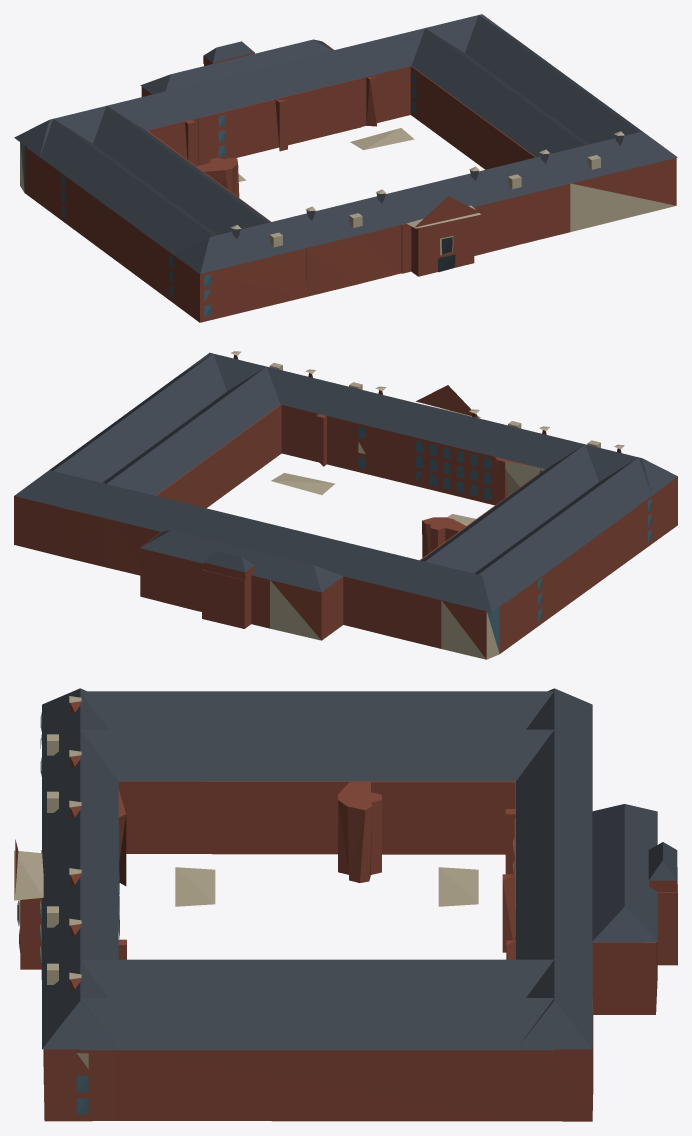
Rendered from hart-museum.lod2.glb.
The picture shows the model from 3 angles, top to bottom: view 1: azimuth 30°, elevation 25°; view 2: azimuth 150°, elevation 25°; view 3: azimuth 270°, elevation 25°; orthographic projection. The views are drawn at different scales.
Parts seen in each view (by area): view 1: lod2; view 2: lod2; view 3: lod2.
Part boxes in pixels (<box>): lod2: <box>14,14,677,322</box>; lod2: <box>14,351,677,659</box>; lod2: <box>14,688,677,1121</box>.
Bounding box in the file's own units: 102 × 15.54 × 83.18.
